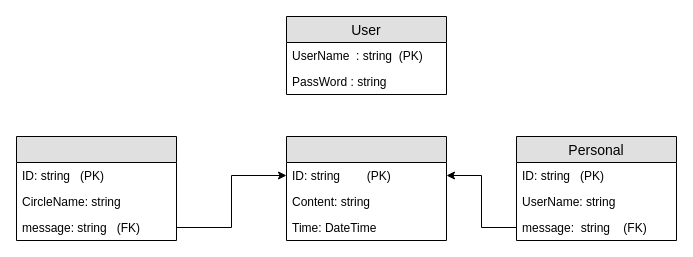
Image size: 693x257. Some labels were removed from this diagram. The shapes that lost their labels are listed below. From the top down, each one's box as (x1, y1, x2, y2) in pixels, then its label:
(16, 136, 176, 240): Public_Circle
(286, 136, 446, 240): Message
